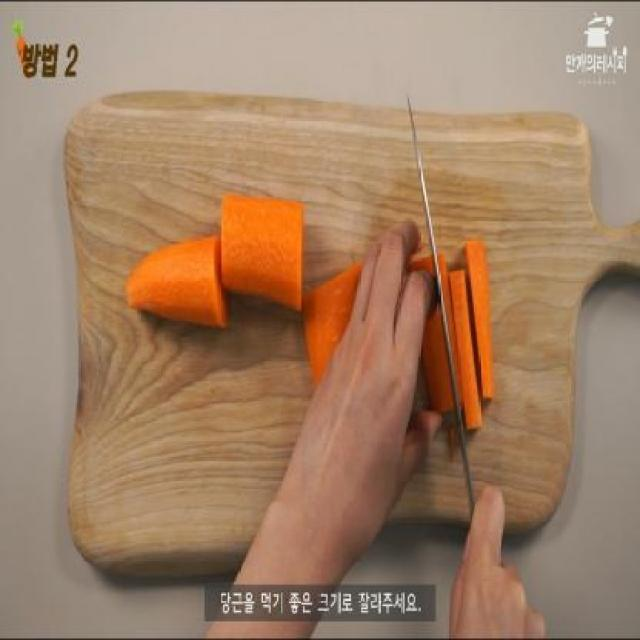carrot: (218, 183, 307, 308), (125, 235, 223, 336)
